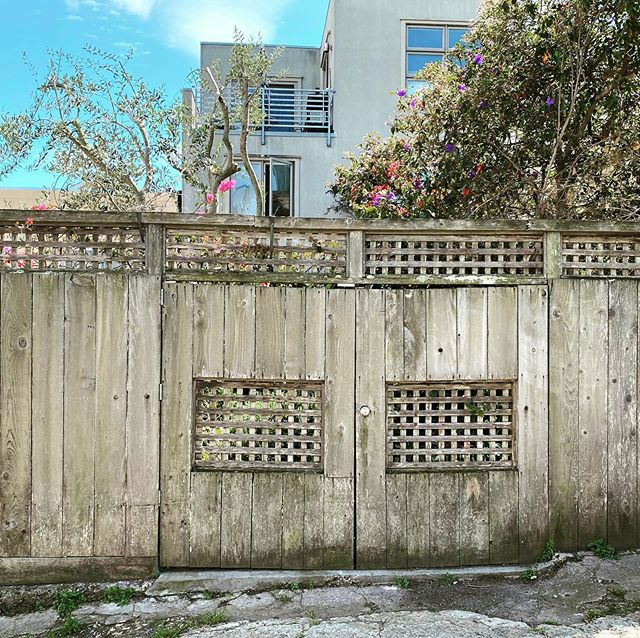building: (192, 1, 507, 209)
sky: (1, 1, 192, 204)
tree: (350, 1, 640, 214), (22, 51, 276, 222)
wall: (5, 215, 640, 568)
